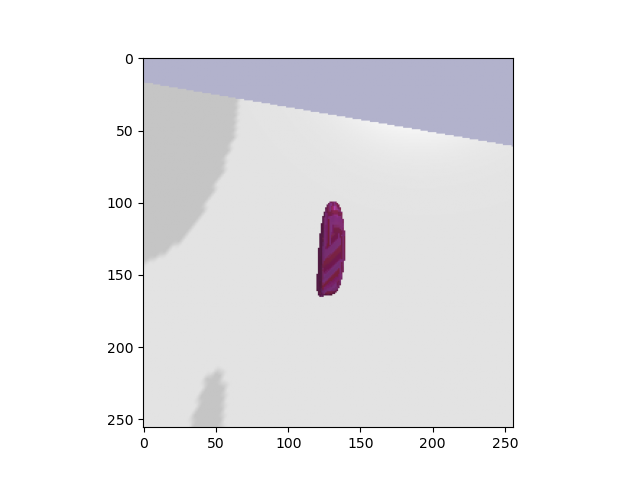v249b387_105: (310, 199, 353, 302)
